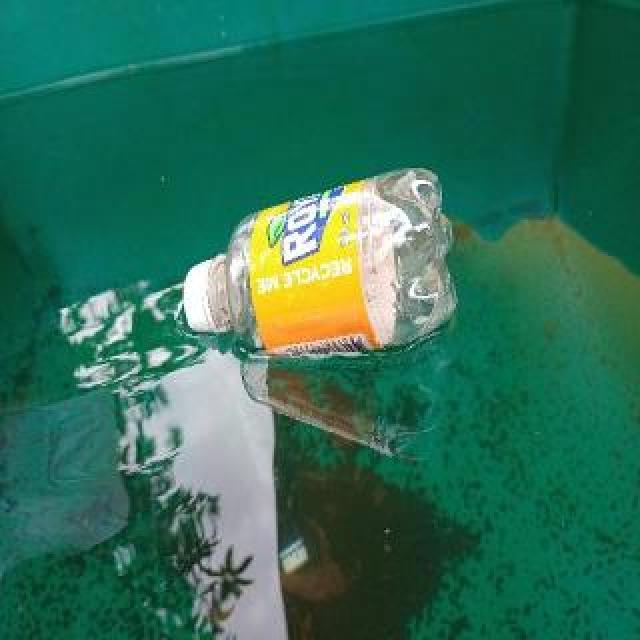Bottle: (177, 162, 466, 364)
